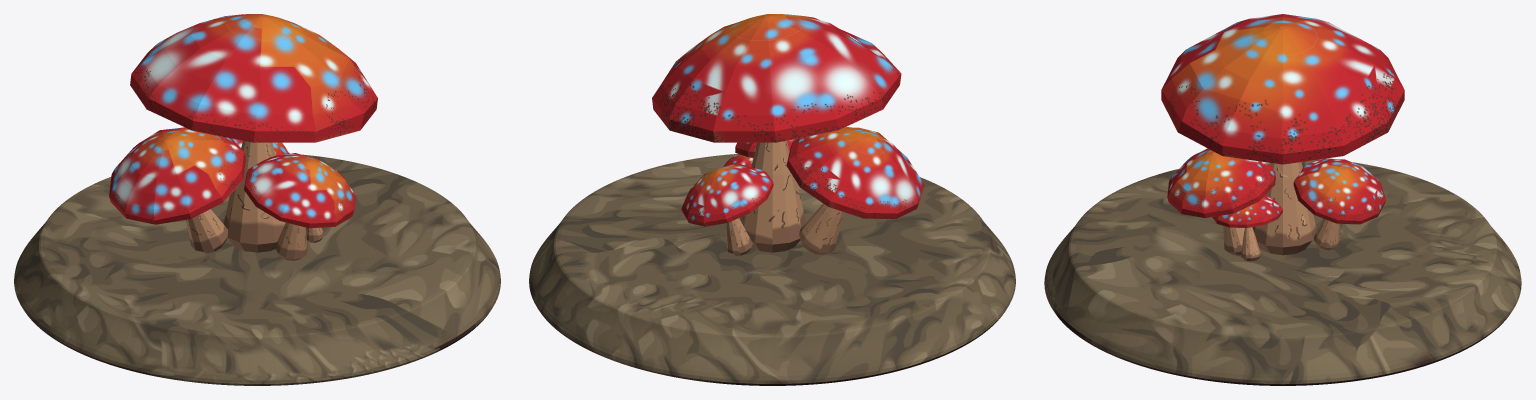
Rendered from mushroom_ffda3090.glb.
3 views of the same model, side by side, from view 1: azimuth 30°, elevation 25°; view 2: azimuth 150°, elevation 25°; view 3: azimuth 270°, elevation 25° (orthographic). The views are drawn at different scales.
Parts seen in each view (by area): view 1: Circle.001, Circle, Circle.003, Circle.005; view 2: Circle.001, Circle, Circle.003, Circle.002; view 3: Circle.001, Circle, Circle.005, Circle.002, Circle.004.
Part boxes in pixels (x1,y1,x2,y2): Circle.001: [14, 154, 500, 385]; Circle: [130, 14, 377, 252]; Circle.003: [109, 127, 246, 253]; Circle.005: [244, 153, 355, 260]; Circle.001: [529, 154, 1015, 385]; Circle: [652, 14, 901, 252]; Circle.003: [786, 126, 924, 254]; Circle.002: [681, 163, 773, 255]; Circle.001: [1044, 160, 1521, 385]; Circle: [1161, 14, 1404, 255]; Circle.005: [1167, 148, 1275, 255]; Circle.002: [1293, 158, 1385, 250]; Circle.004: [1212, 195, 1282, 261].
Bounding box in the file's own units: 9.46 × 5.76 × 9.46.
2 materials, 2 textured.
